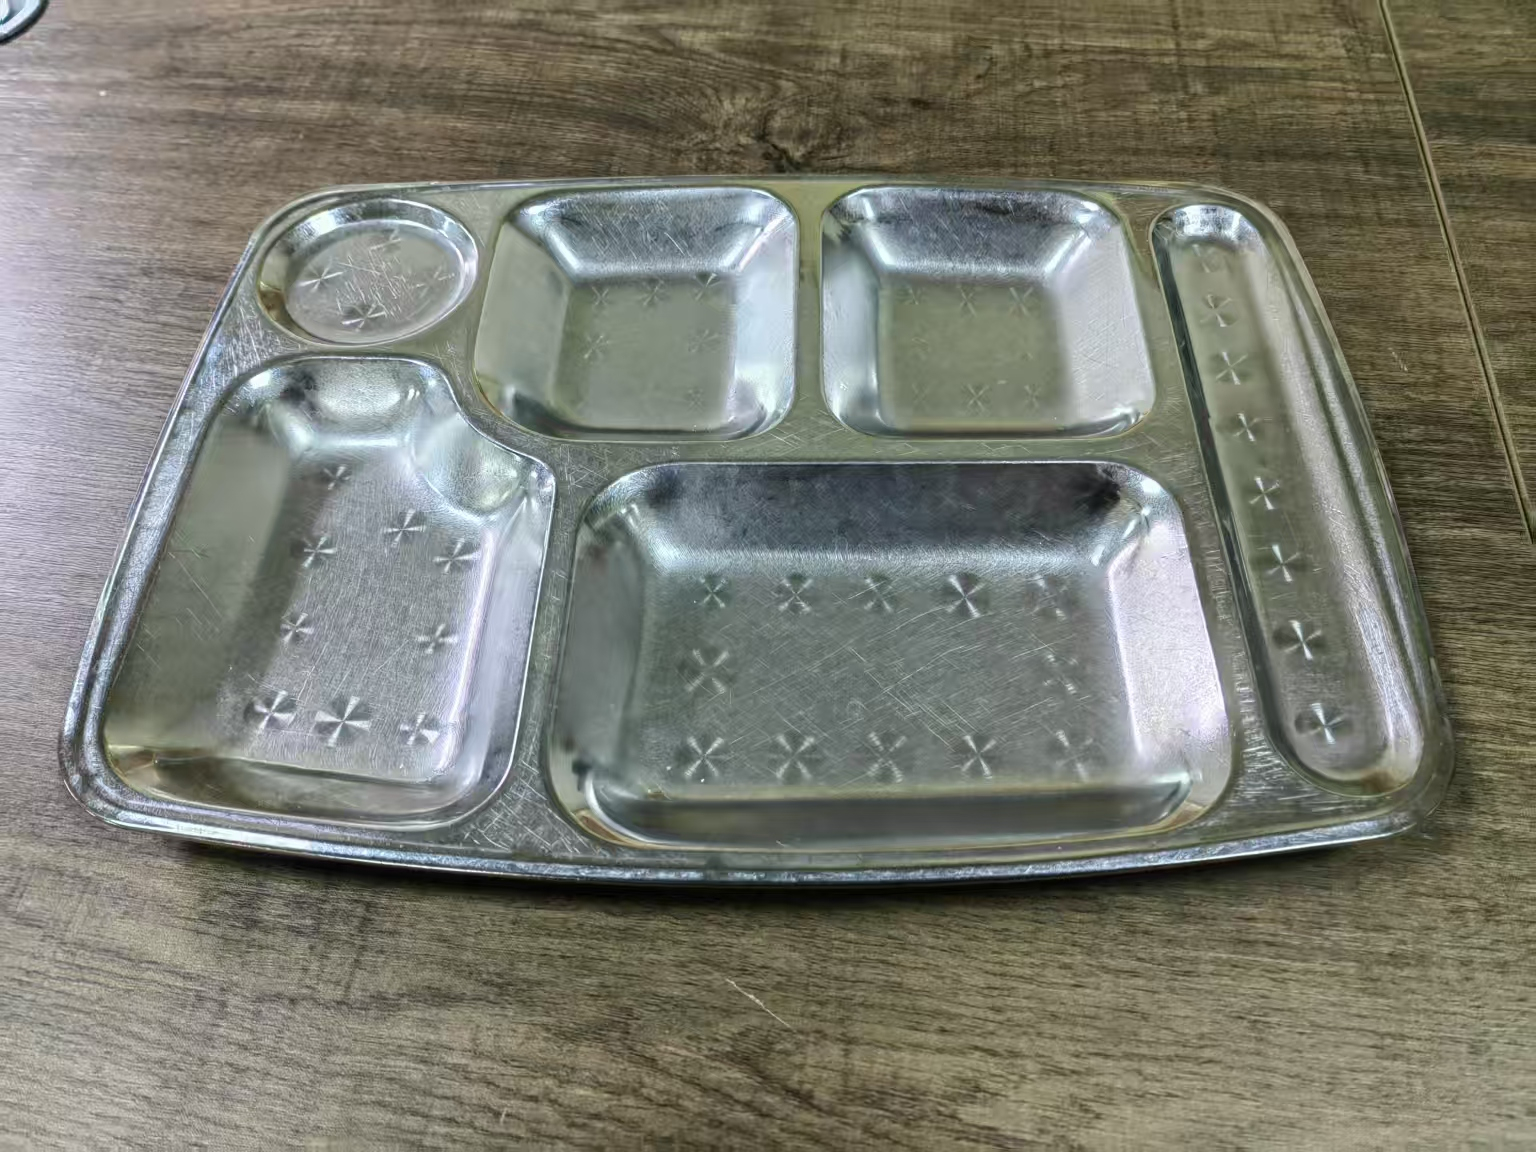plate: (53, 174, 1456, 892)
